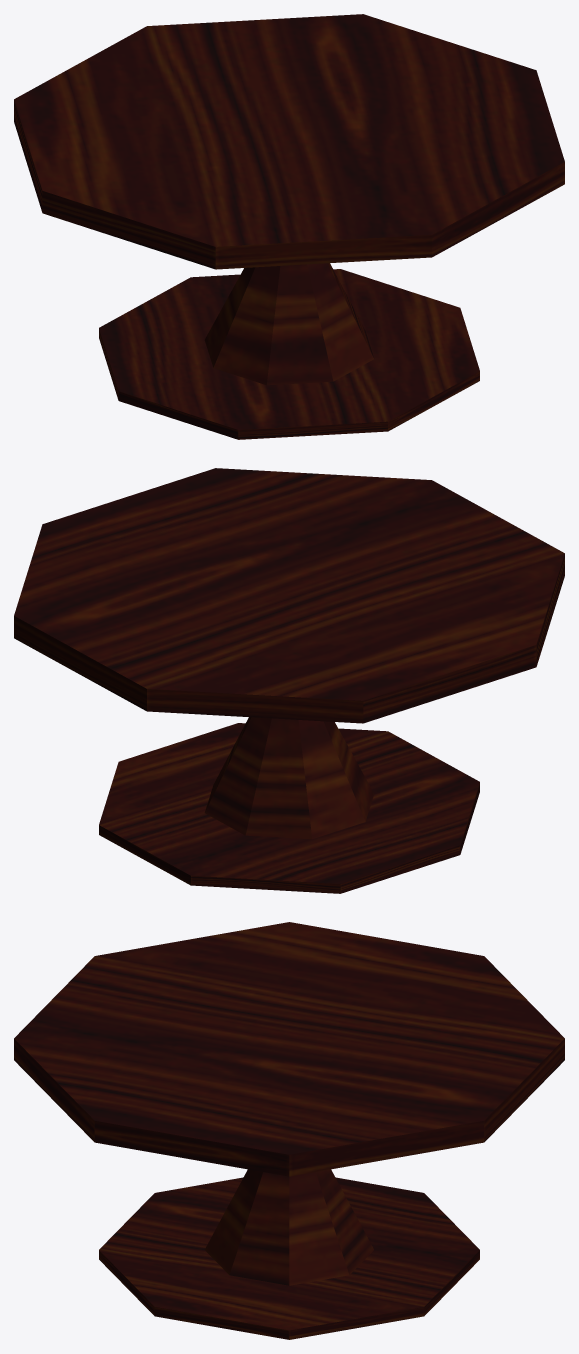
File: Table2.fbx
3 renders of one model, top to bottom at view 1: azimuth 30°, elevation 25°; view 2: azimuth 150°, elevation 25°; view 3: azimuth 270°, elevation 25°, orthographic. The views are drawn at different scales.
Parts seen in each view (by area): view 1: Cylinder; view 2: Cylinder; view 3: Cylinder.
Boxes of the visible parts, x1,y1,x2,y2 form: Cylinder: [14, 14, 564, 439]; Cylinder: [14, 468, 564, 893]; Cylinder: [14, 922, 564, 1339].
Bounding box in the file's own units: 200 × 88.52 × 200.
